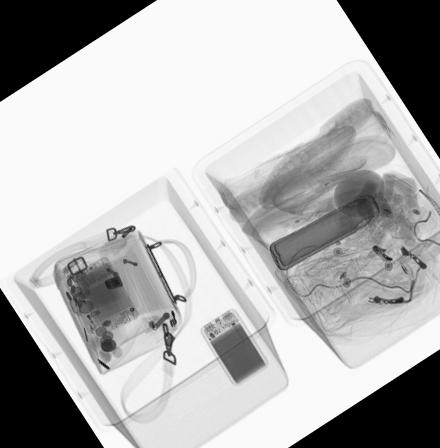Lighter: (83, 312, 98, 332)
